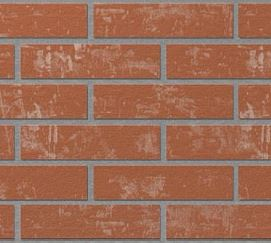brick: (93, 82, 235, 121), (93, 2, 236, 40), (94, 165, 235, 202), (19, 125, 162, 161), (19, 44, 161, 80), (20, 205, 162, 239), (165, 44, 271, 82), (166, 125, 271, 162), (165, 205, 271, 239), (1, 83, 90, 122), (1, 165, 91, 202), (1, 2, 89, 39), (238, 83, 271, 121), (237, 164, 271, 200), (238, 4, 271, 39)
